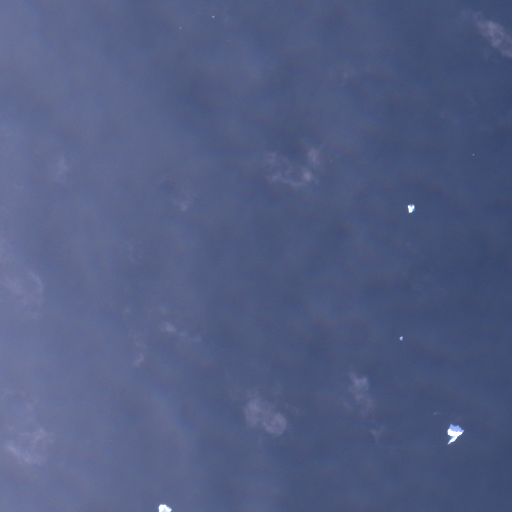Iceberg: (447, 424, 464, 444), (158, 504, 171, 511), (407, 204, 415, 212), (399, 336, 402, 340), (212, 15, 214, 17), (472, 153, 474, 155)
